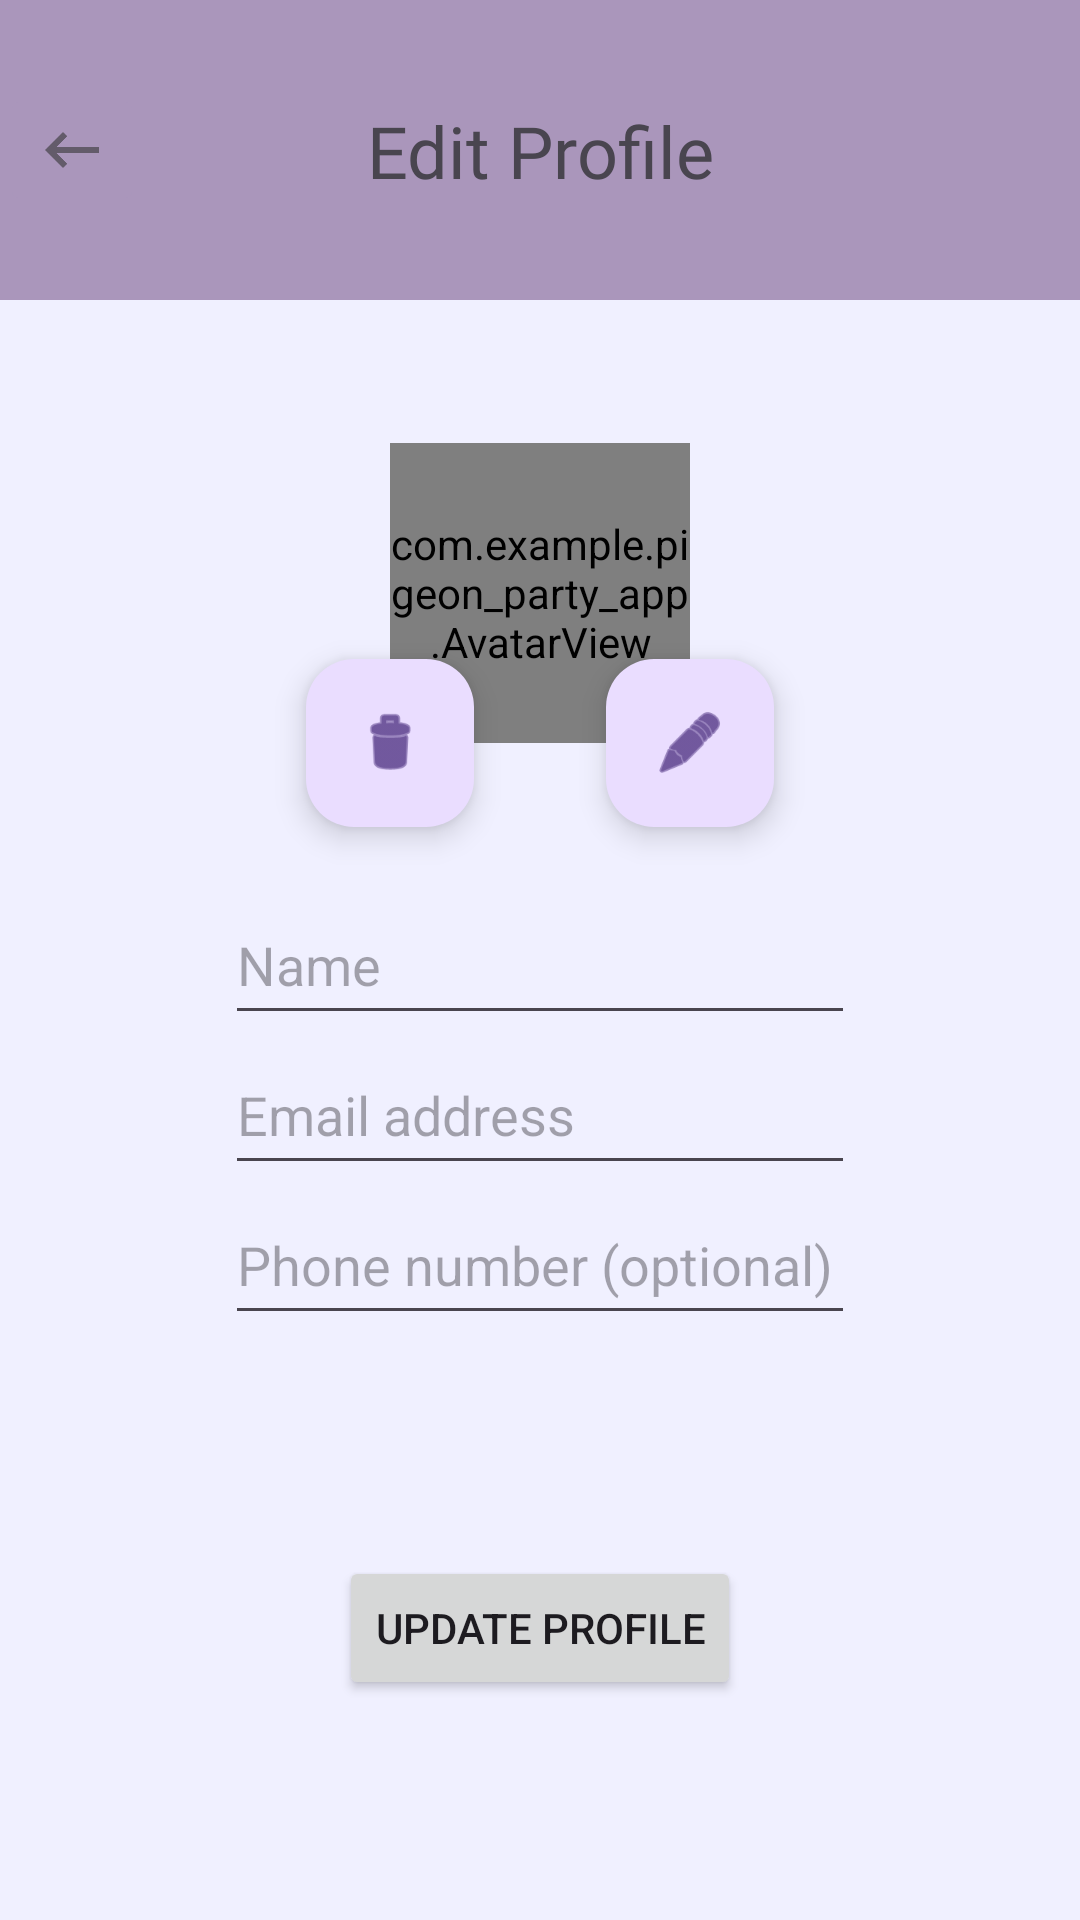

Where to tap for icons on this 1080*1920 app screen, as (x=x, y=y):
back: (x=72, y=150)
delete: (x=390, y=743)
edit: (x=690, y=743)
